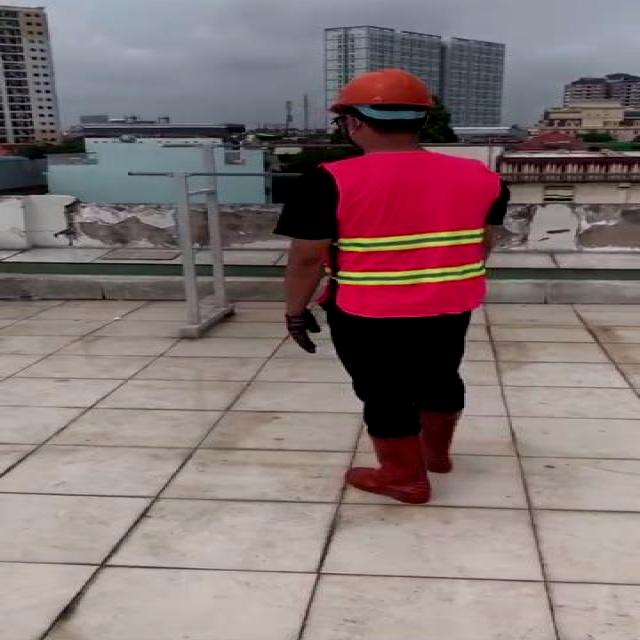boots: (346, 432, 434, 504), (414, 407, 464, 473)
hand_glove: (282, 311, 322, 353)
head_helmet: (324, 70, 439, 116)
person: (274, 59, 503, 514)
vest: (326, 151, 500, 316)
